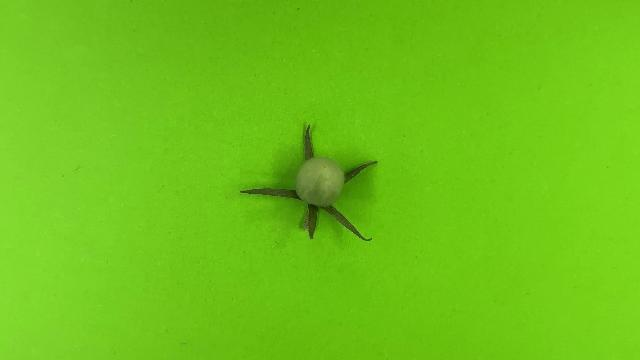Fruit Maturation: (294, 155, 347, 208)
